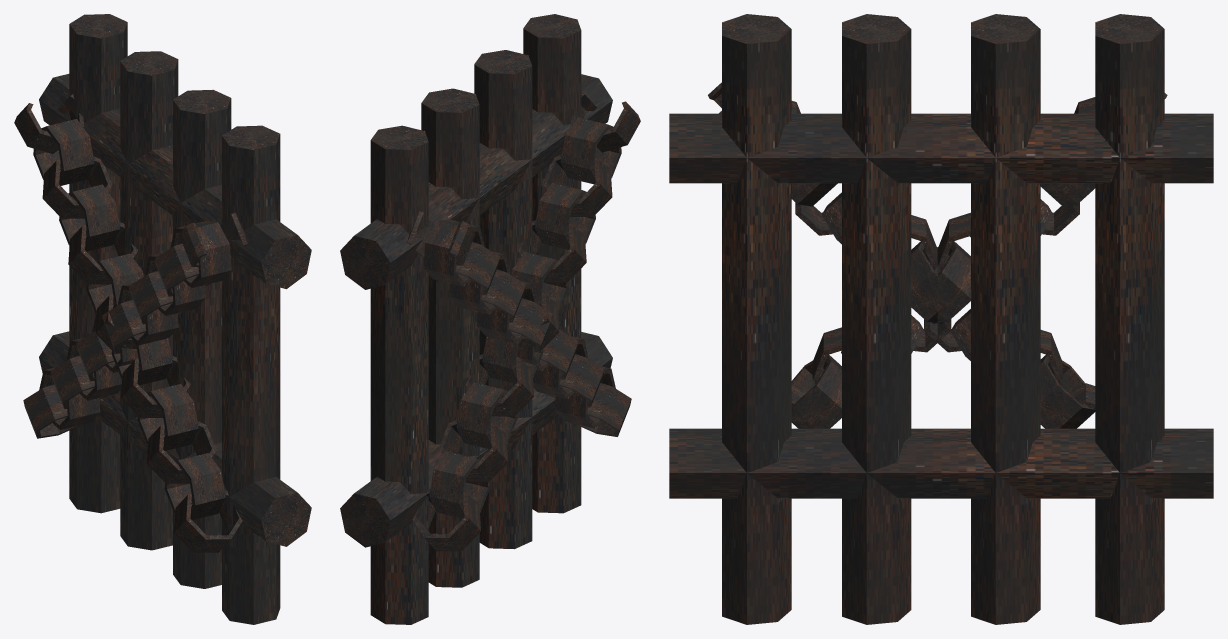
The model's file is prisondoor1.fbx.
3 views of the same model, side by side, from view 1: azimuth 30°, elevation 25°; view 2: azimuth 150°, elevation 25°; view 3: azimuth 270°, elevation 25° (orthographic). The views are drawn at different scales.
Parts seen in each view (by area): view 1: Cylinder.007; view 2: Cylinder.007; view 3: Cylinder.007.
Boxes of the visible parts, x1=… form: Cylinder.007: x1=14, y1=14, x2=311, y2=624; Cylinder.007: x1=340, y1=14, x2=640, y2=624; Cylinder.007: x1=669, y1=14, x2=1213, y2=624.
Bounding box in the file's own units: 448 × 2087 × 1772.
